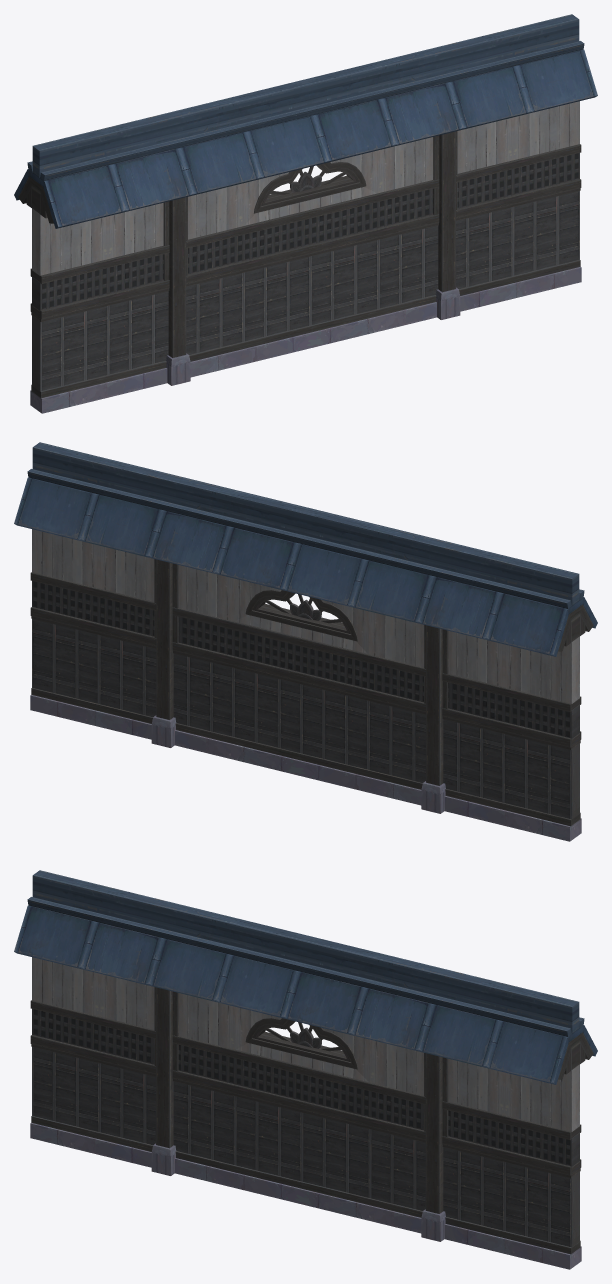
File: Homeworld_Exterior_Dq_Build_Wall_01_Vo.fbx
3 views of the same model, one above another, from view 1: azimuth 30°, elevation 25°; view 2: azimuth 150°, elevation 25°; view 3: azimuth 330°, elevation 25° (orthographic).
Visible parts, largest first — view 1: Homeworld_Exterior_Dq_Build_Wall_01_Vo; view 2: Homeworld_Exterior_Dq_Build_Wall_01_Vo; view 3: Homeworld_Exterior_Dq_Build_Wall_01_Vo.
Part boxes in pixels (x1=…): Homeworld_Exterior_Dq_Build_Wall_01_Vo: x1=14, y1=14, x2=597, y2=413; Homeworld_Exterior_Dq_Build_Wall_01_Vo: x1=14, y1=442, x2=597, y2=841; Homeworld_Exterior_Dq_Build_Wall_01_Vo: x1=14, y1=870, x2=597, y2=1269.
Bounding box in the file's own units: 10 × 4.62 × 1.42.
